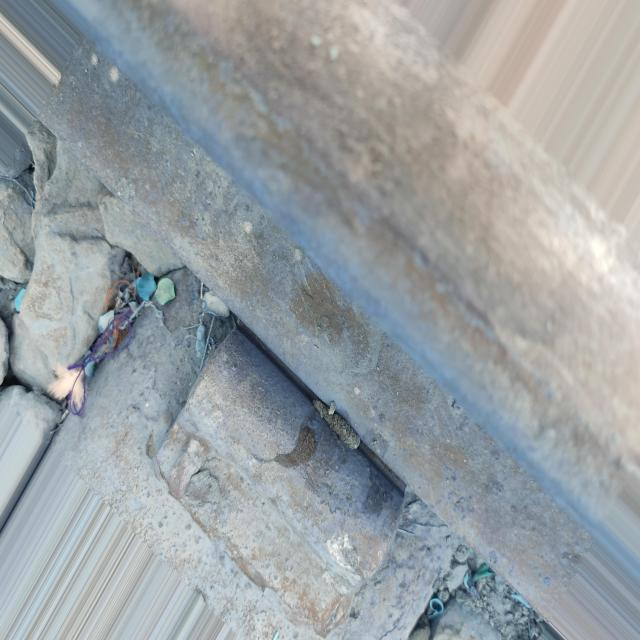Missing Fastener: (152, 322, 420, 640)
